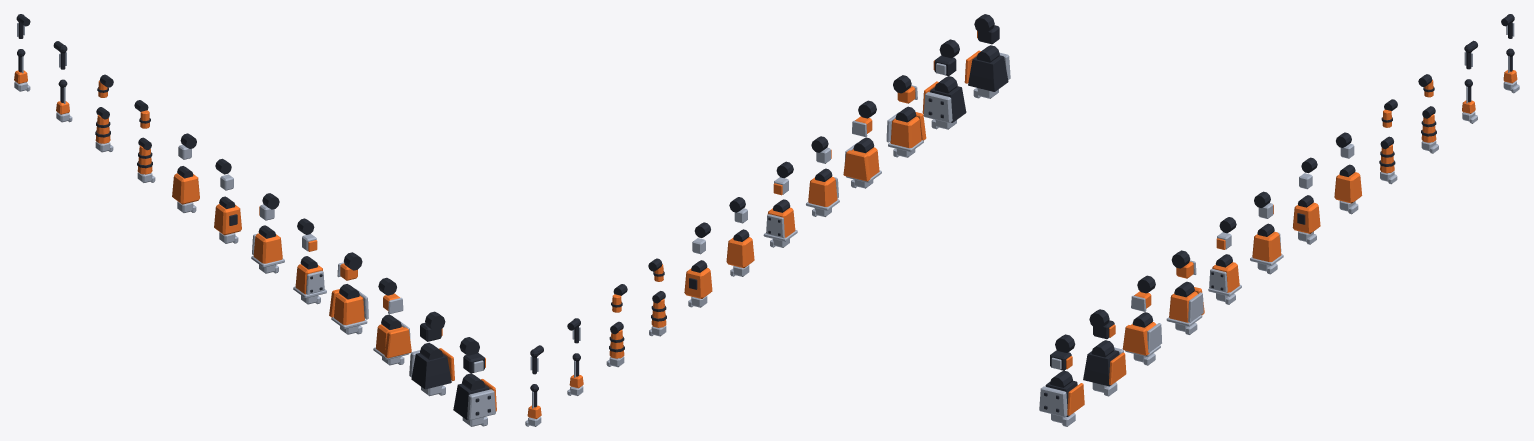
File: arms.glb
3 views of the same model, side by side, from view 1: azimuth 30°, elevation 25°; view 2: azimuth 150°, elevation 25°; view 3: azimuth 330°, elevation 25° (orthographic).
Parts seen in each view (by area): view 1: anvil_fore_L, anvil_fore_R, bulwark_fore_L, bulwark_fore_R, brace_fore_L, brace_fore_R, frame_fore_R, frame_fore_L, anvil_upper_R, reed_fore_R, reed_fore_L, bulwark_upper_R (+3 smaller); view 2: anvil_fore_R, anvil_fore_L, bulwark_fore_R, bulwark_fore_L, brace_fore_R, brace_fore_L, frame_fore_L, frame_fore_R, anvil_upper_L, reed_fore_L, reed_fore_R, bulwark_upper_L (+3 smaller); view 3: anvil_fore_R, anvil_fore_L, bulwark_fore_R, bulwark_fore_L, brace_fore_R, brace_fore_L, frame_fore_L, frame_fore_R, anvil_upper_R, reed_fore_L, reed_fore_R, bulwark_upper_R (+3 smaller).
Boxes of the visible parts, x1=… form: anvil_fore_L: x1=409, y1=342, x2=454, y2=396; anvil_fore_R: x1=453, y1=373, x2=496, y2=426; bulwark_fore_L: x1=329, y1=284, x2=368, y2=334; bulwark_fore_R: x1=373, y1=314, x2=411, y2=365; brace_fore_L: x1=251, y1=225, x2=284, y2=273; brace_fore_R: x1=293, y1=256, x2=326, y2=304; frame_fore_R: x1=214, y1=196, x2=241, y2=243; frame_fore_L: x1=172, y1=166, x2=199, y2=212; anvil_upper_R: x1=459, y1=337, x2=485, y2=373; reed_fore_R: x1=137, y1=137, x2=155, y2=182; reed_fore_L: x1=95, y1=107, x2=113, y2=152; bulwark_upper_R: x1=378, y1=277, x2=403, y2=314; anvil_fore_R: x1=964, y1=45, x2=1010, y2=98; anvil_fore_L: x1=922, y1=76, x2=966, y2=129; bulwark_fore_R: x1=886, y1=106, x2=926, y2=157; bulwark_fore_L: x1=843, y1=137, x2=881, y2=188; brace_fore_R: x1=806, y1=168, x2=839, y2=216; brace_fore_L: x1=763, y1=199, x2=797, y2=247; frame_fore_L: x1=684, y1=260, x2=712, y2=307; frame_fore_R: x1=726, y1=229, x2=754, y2=276; anvil_upper_L: x1=933, y1=39, x2=959, y2=76; reed_fore_L: x1=606, y1=321, x2=624, y2=367; reed_fore_R: x1=649, y1=291, x2=666, y2=336; bulwark_upper_L: x1=852, y1=100, x2=876, y2=137; anvil_fore_R: x1=1039, y1=370, x2=1084, y2=426; anvil_fore_L: x1=1083, y1=340, x2=1126, y2=396; bulwark_fore_R: x1=1122, y1=312, x2=1161, y2=365; bulwark_fore_L: x1=1166, y1=281, x2=1204, y2=334; brace_fore_R: x1=1208, y1=254, x2=1241, y2=304; brace_fore_L: x1=1250, y1=223, x2=1283, y2=274; frame_fore_L: x1=1334, y1=164, x2=1362, y2=214; frame_fore_R: x1=1292, y1=195, x2=1320, y2=244; anvil_upper_R: x1=1050, y1=334, x2=1075, y2=370; reed_fore_L: x1=1421, y1=106, x2=1438, y2=153; reed_fore_R: x1=1379, y1=136, x2=1397, y2=184; bulwark_upper_R: x1=1131, y1=275, x2=1155, y2=311.
Size of the model in its own units: 0.3747 by 1 by 10.21.
